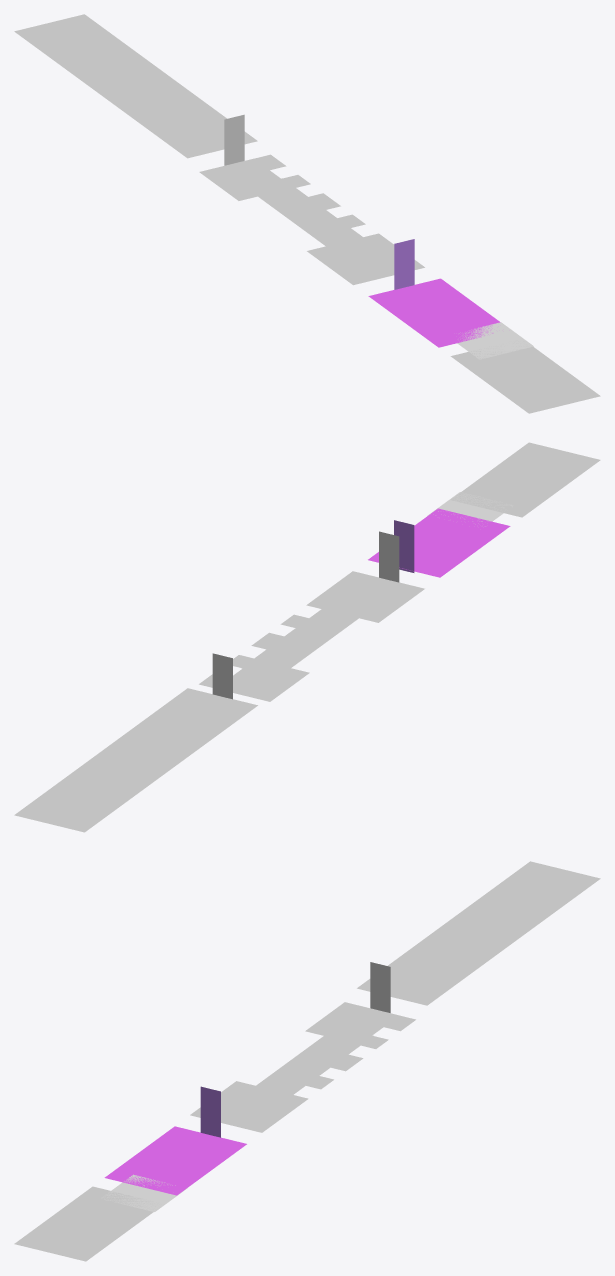
Rendered from navmesh1.glb.
3 views of the same model, one above another, from view 1: azimuth 30°, elevation 25°; view 2: azimuth 150°, elevation 25°; view 3: azimuth 330°, elevation 25° (orthographic).
Visible parts, largest first — view 1: Plane.010, Plane.001, Plane, Plane.003, Plane.005, Plane.004, Plane.002, Plane.012, Plane.014; view 2: Plane.010, Plane.001, Plane, Plane.003, Plane.005, Plane.004, Plane.013, Plane.002, Plane.011, Plane.014; view 3: Plane.010, Plane.001, Plane, Plane.005, Plane.003, Plane.004, Plane.002, Plane.012, Plane.014.
Boxes of the visible parts, x1,y1,x2,y2 form: Plane.010: (14, 14, 257, 158); Plane.001: (450, 340, 600, 413); Plane: (368, 278, 500, 347); Plane.003: (307, 233, 424, 285); Plane.005: (258, 178, 362, 246); Plane.004: (199, 159, 293, 200); Plane.002: (457, 322, 533, 359); Plane.012: (224, 114, 244, 165); Plane.014: (394, 239, 414, 289); Plane.010: (14, 688, 257, 832); Plane.001: (451, 442, 600, 517); Plane: (368, 508, 510, 577); Plane.003: (306, 571, 424, 622); Plane.005: (241, 604, 358, 677); Plane.004: (233, 659, 309, 701); Plane.013: (379, 531, 399, 582); Plane.002: (427, 492, 512, 526); Plane.011: (212, 653, 232, 699); Plane.014: (394, 520, 414, 572); Plane.010: (357, 861, 600, 1005); Plane.001: (14, 1186, 161, 1261); Plane: (104, 1126, 246, 1195); Plane.005: (249, 1026, 373, 1101); Plane.003: (190, 1081, 308, 1132); Plane.004: (305, 1002, 398, 1043); Plane.002: (101, 1174, 187, 1211); Plane.012: (370, 962, 390, 1012); Plane.014: (200, 1086, 220, 1137).
Size of the model in its own units: 52.19 by 32.82 by 637.
